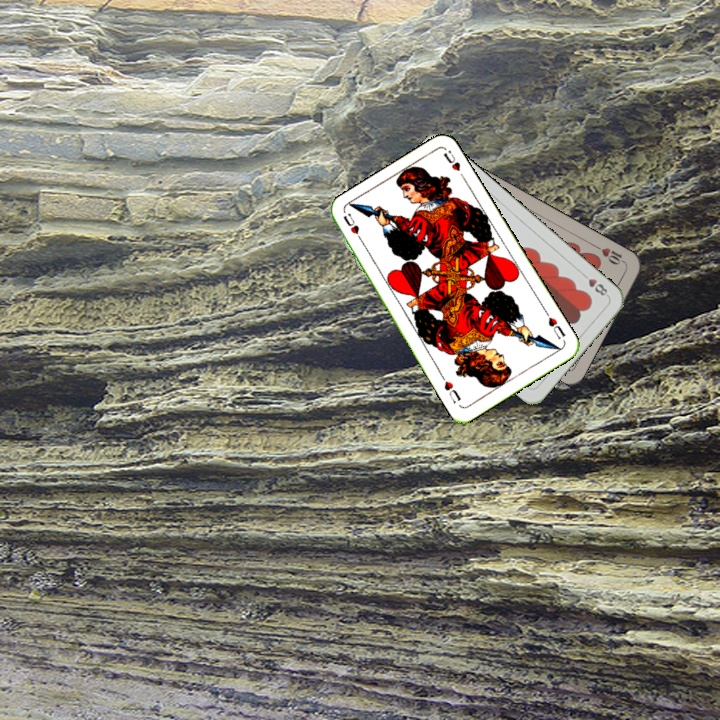H10: (591, 241, 628, 267)
H8: (577, 269, 611, 299)
HU: (339, 209, 367, 246), (541, 307, 568, 342)
